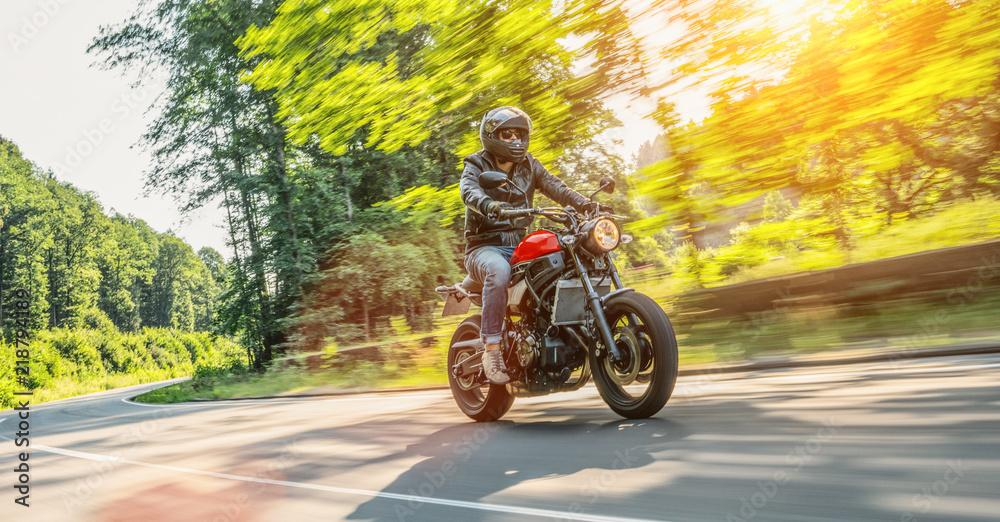helmet: (480, 106, 533, 164)
